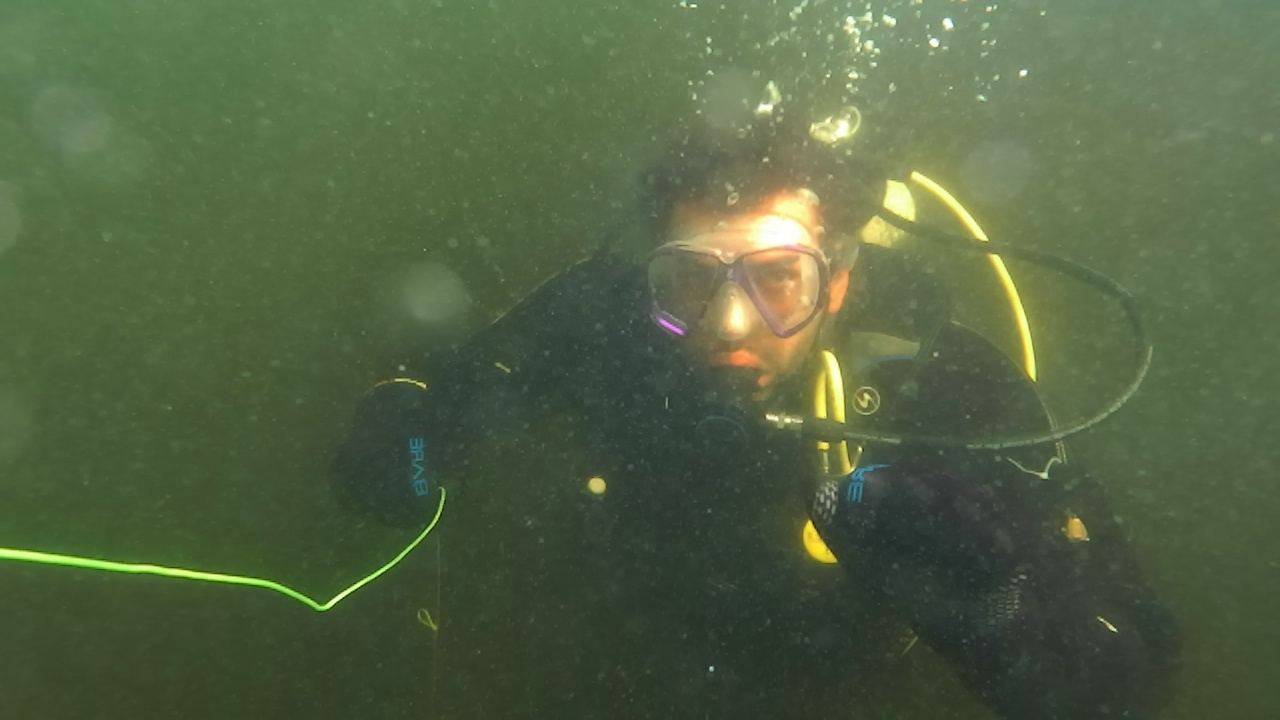Diver: (326, 120, 1184, 712)
Hand: (802, 436, 1046, 664), (326, 382, 470, 544)
Head: (632, 120, 856, 434)
